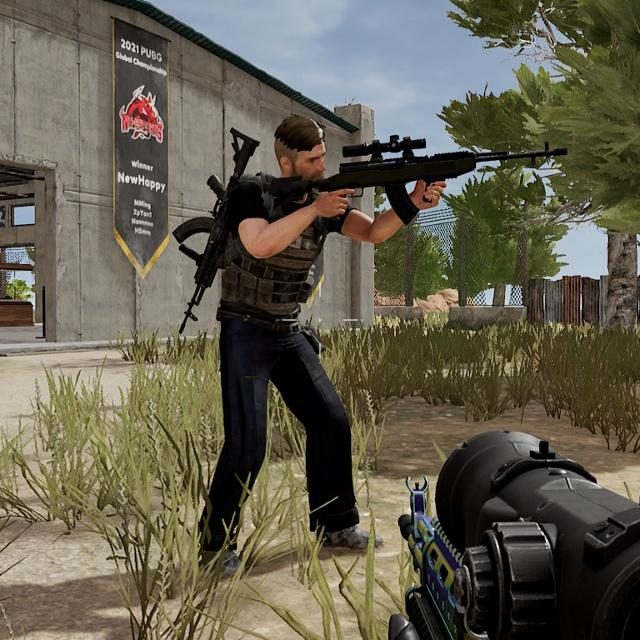head: (262, 110, 341, 191)
people: (167, 106, 406, 582)
